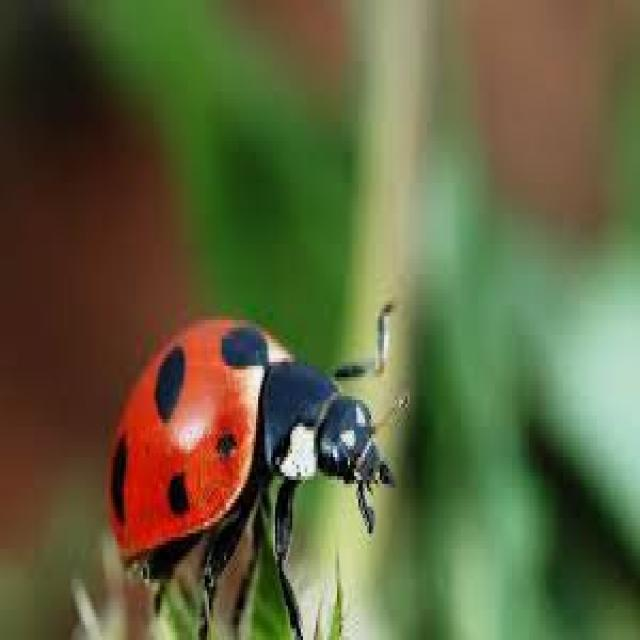ladybug: (109, 305, 390, 636)
